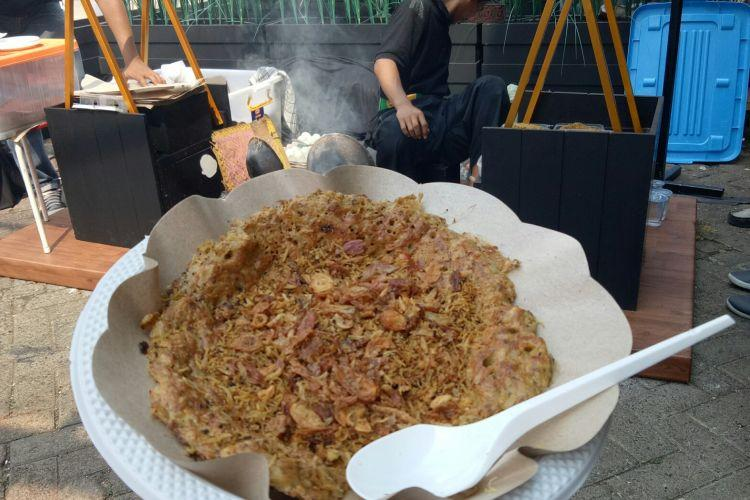kerak_telor: (149, 192, 554, 500)
